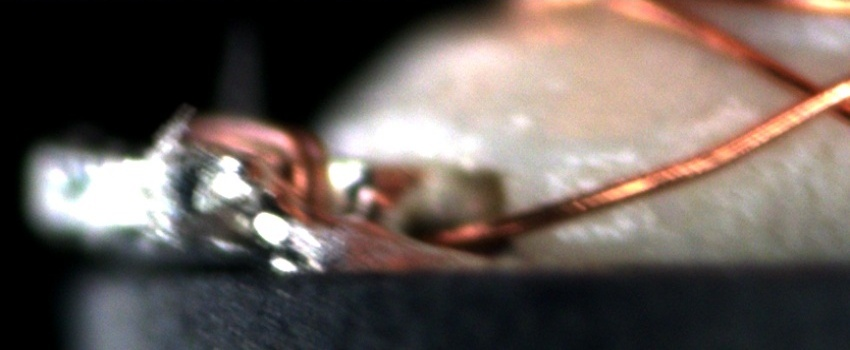CL: (775, 64, 847, 129)
TE: (186, 111, 341, 216)
